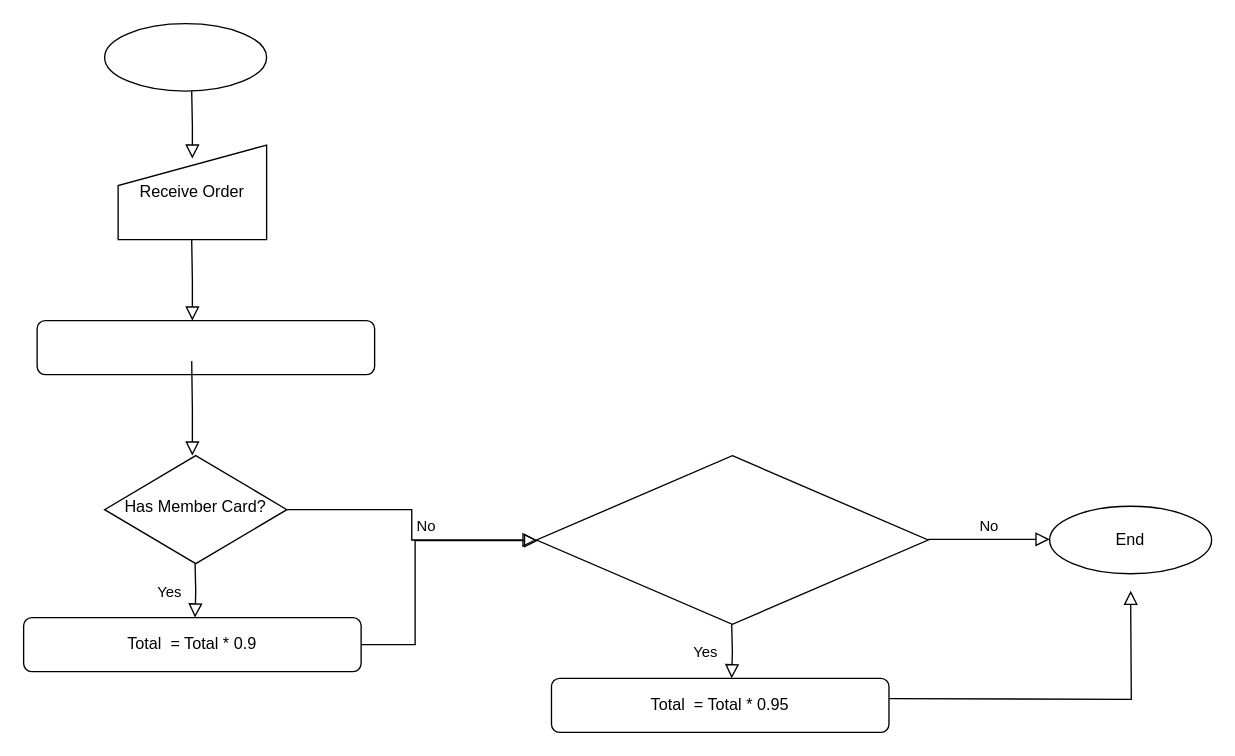
Image size: 1235x756. Some labels were removed from this diagram. Each missing label, with the centre of its shape:
Calculate Total All Item.: [205,347]
Order doubles of Orange,Green or Pink ?: [731,539]
Start: [185,56]
